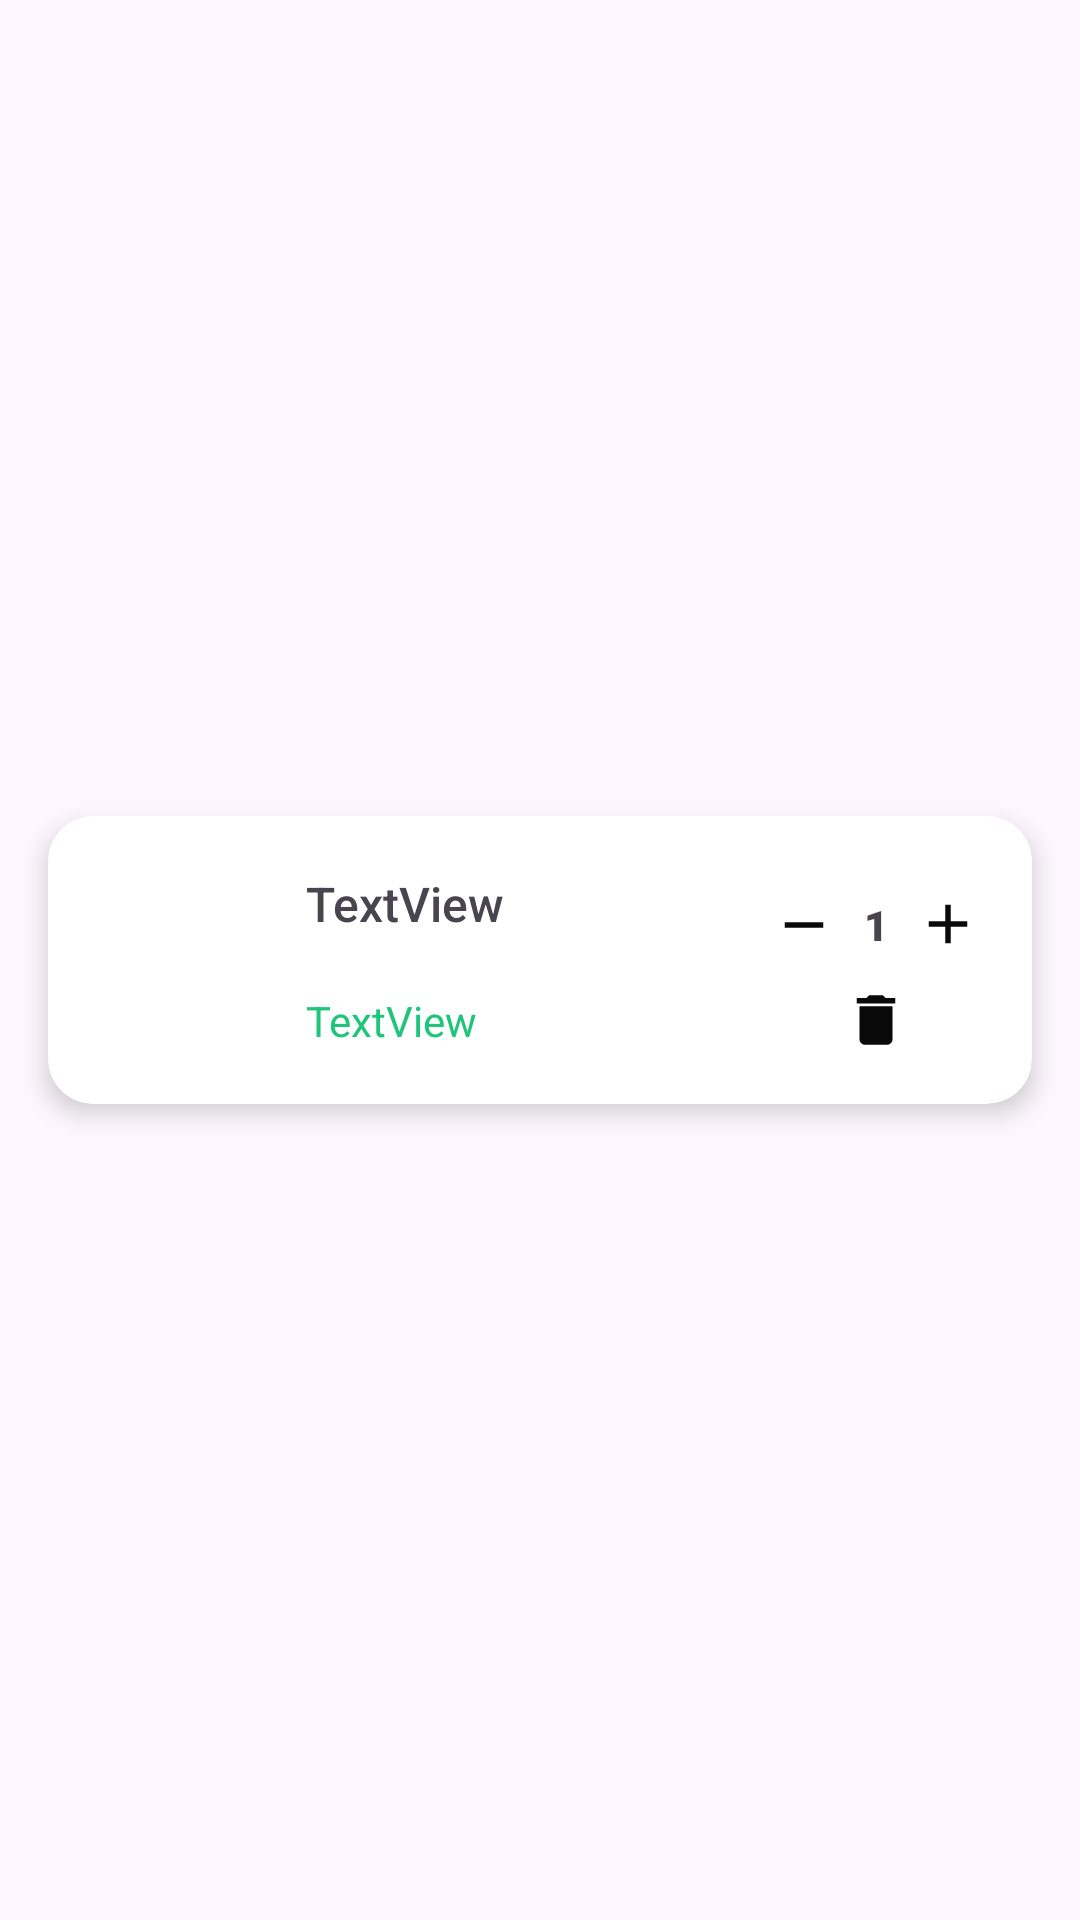

Screen size 1080×1920. Icon name, then its box in pixels as (left=x1, top=y1, right=x2, bottom=y2):
add: (left=928, top=904, right=968, bottom=944)
trash: (left=856, top=995, right=896, bottom=1045)
